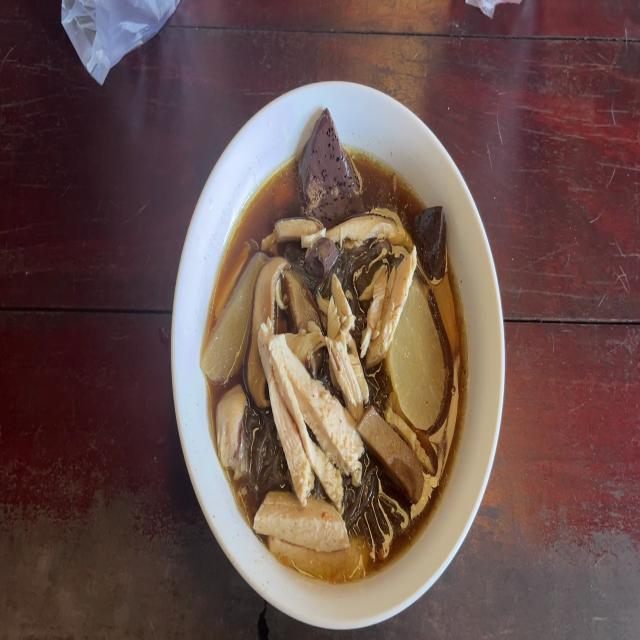boiled_chicken_blood_jelly: (289, 105, 363, 213), (409, 196, 451, 280)
chicken_shredded: (260, 334, 355, 496), (256, 492, 362, 576), (362, 256, 416, 362), (328, 275, 364, 416), (324, 206, 403, 252), (212, 385, 248, 467), (268, 207, 324, 250)
daikon_radish: (203, 256, 256, 376), (396, 294, 442, 417)
noodle: (207, 159, 465, 583)
